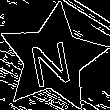N_N: (28, 30, 77, 87)
